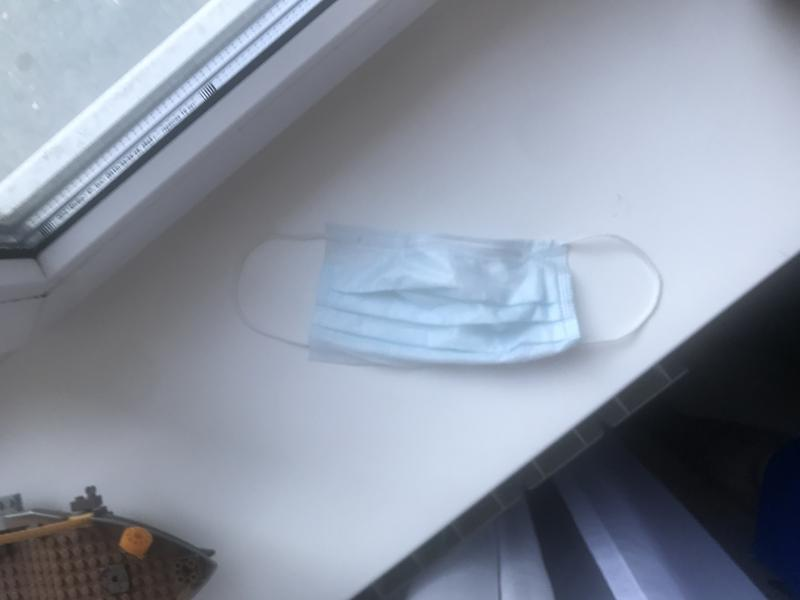medical_mask: (232, 223, 663, 366)
